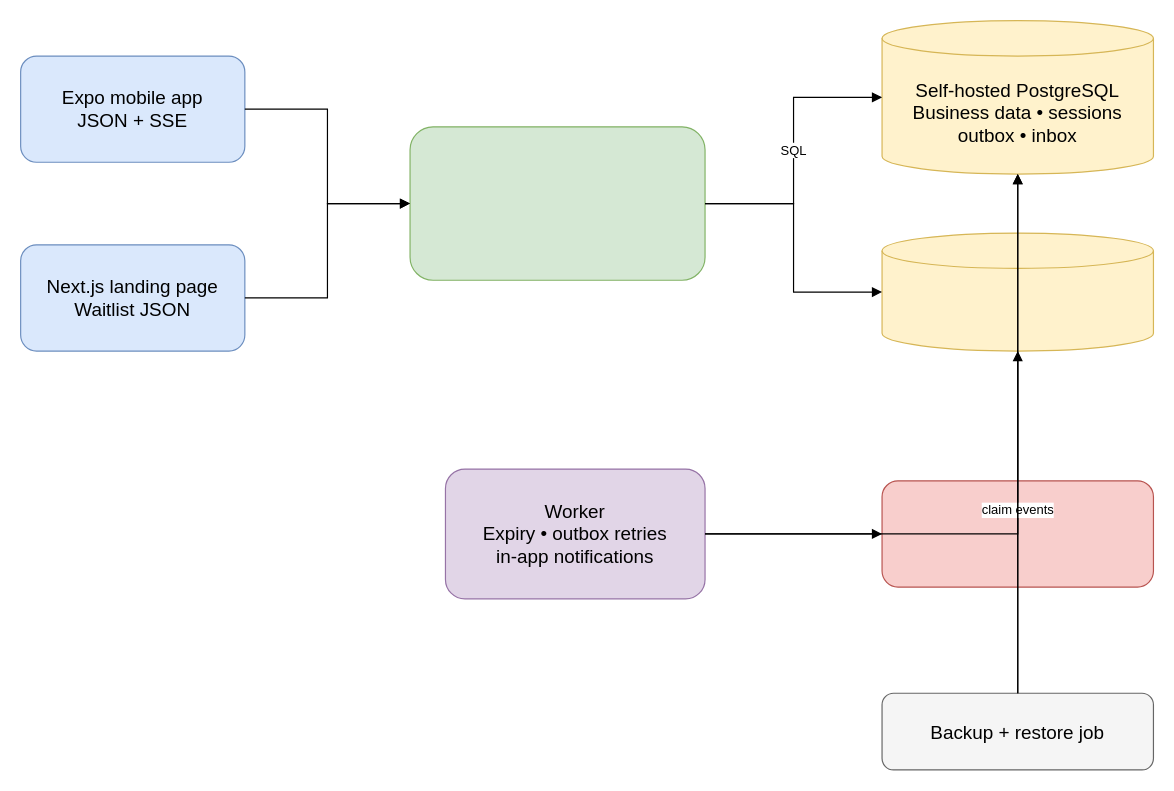
The diagram is 1174 pixels wide and 791 high, and some of its shapes have lost their labels. The box of each missing label's shape, as (x1, y1, x2, y2) in pixels:
Avatar volume Encrypted + backed up: (881, 232, 1153, 351)
Express API Auth • domain services Authorization • SSE: (409, 126, 705, 280)
Owned SMTP service Verification + recovery: (881, 480, 1153, 587)
